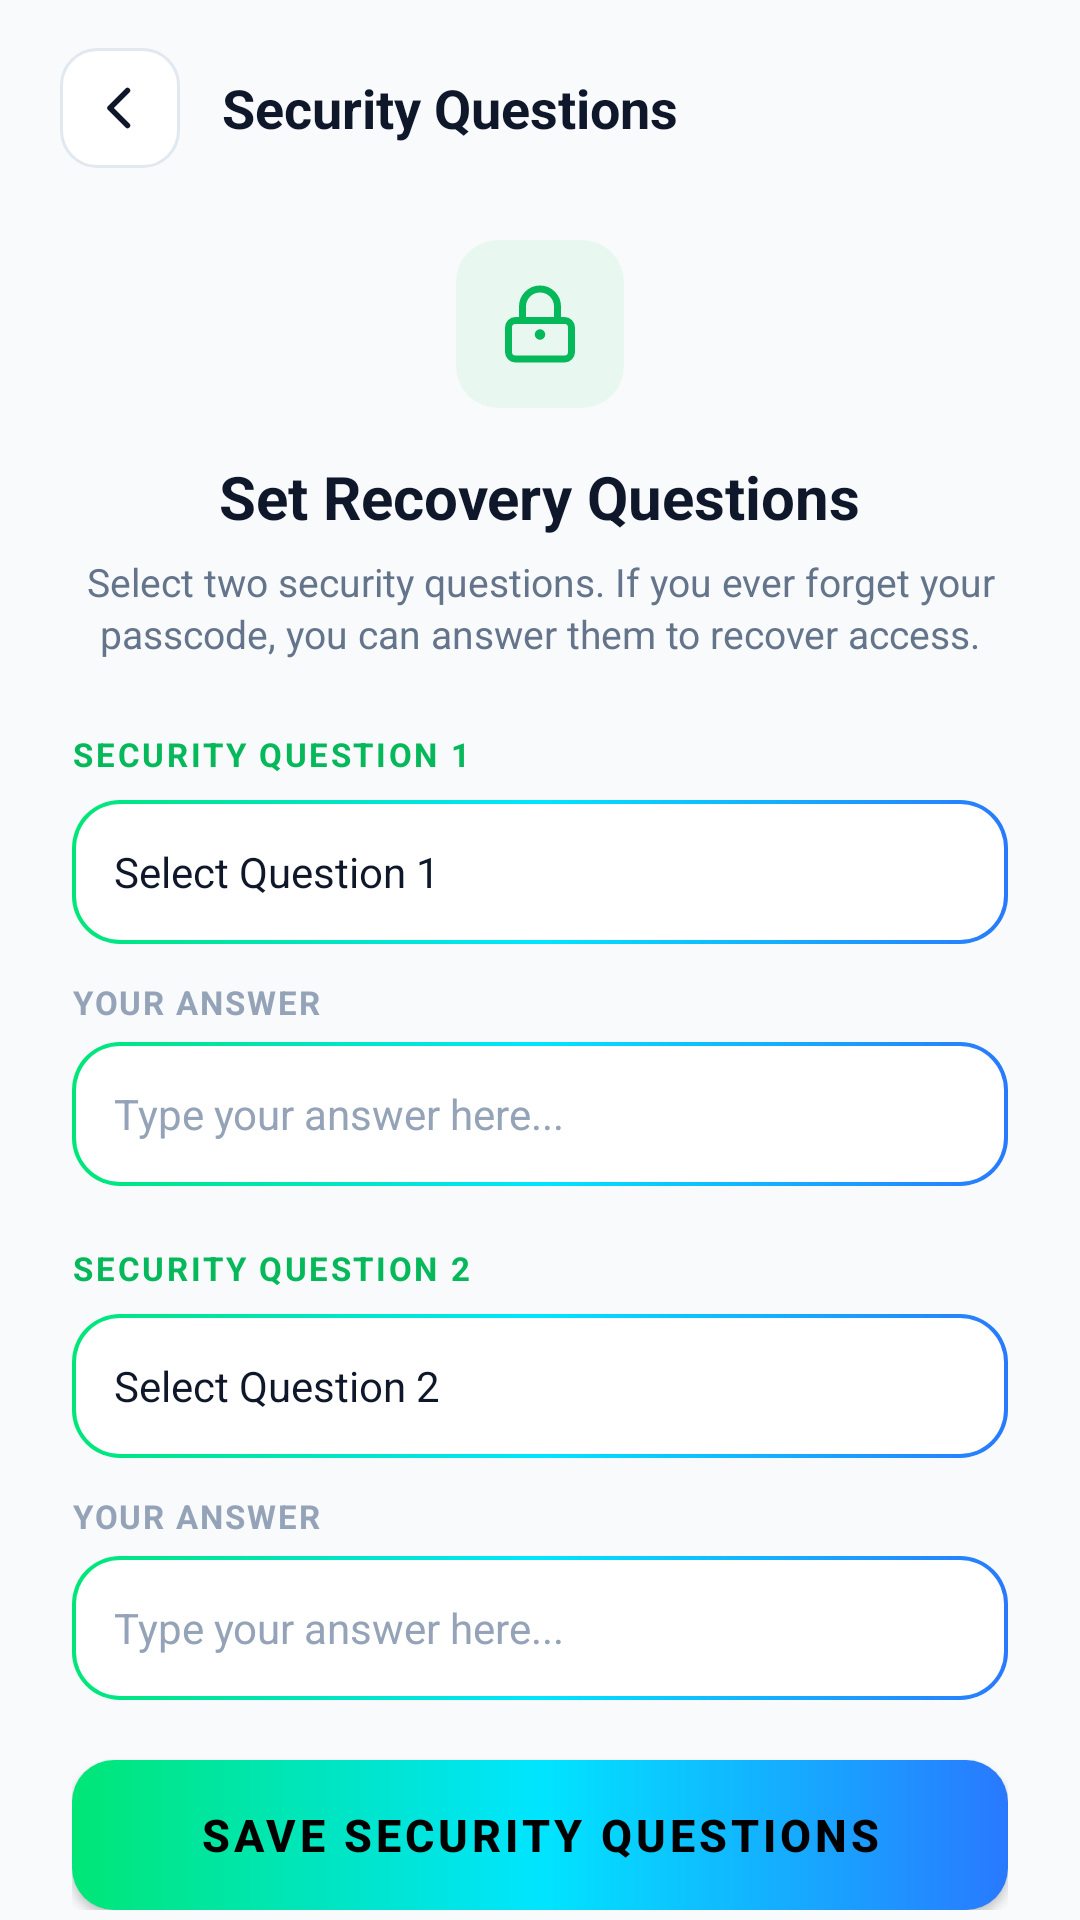

Icon bounding boxes for this 1080 x 1920 phone screenshot, format (x1,y1,x2,y2):
Back: (107,87,131,129)
